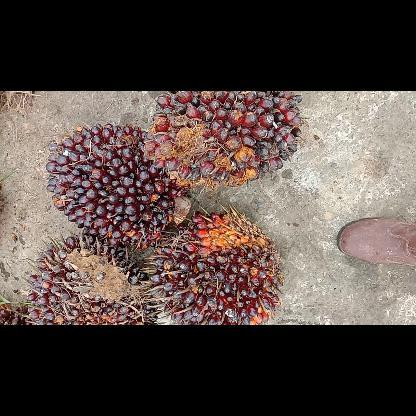Kurang masak: (42, 121, 193, 251), (142, 91, 308, 193), (145, 208, 283, 324), (23, 232, 164, 324)
